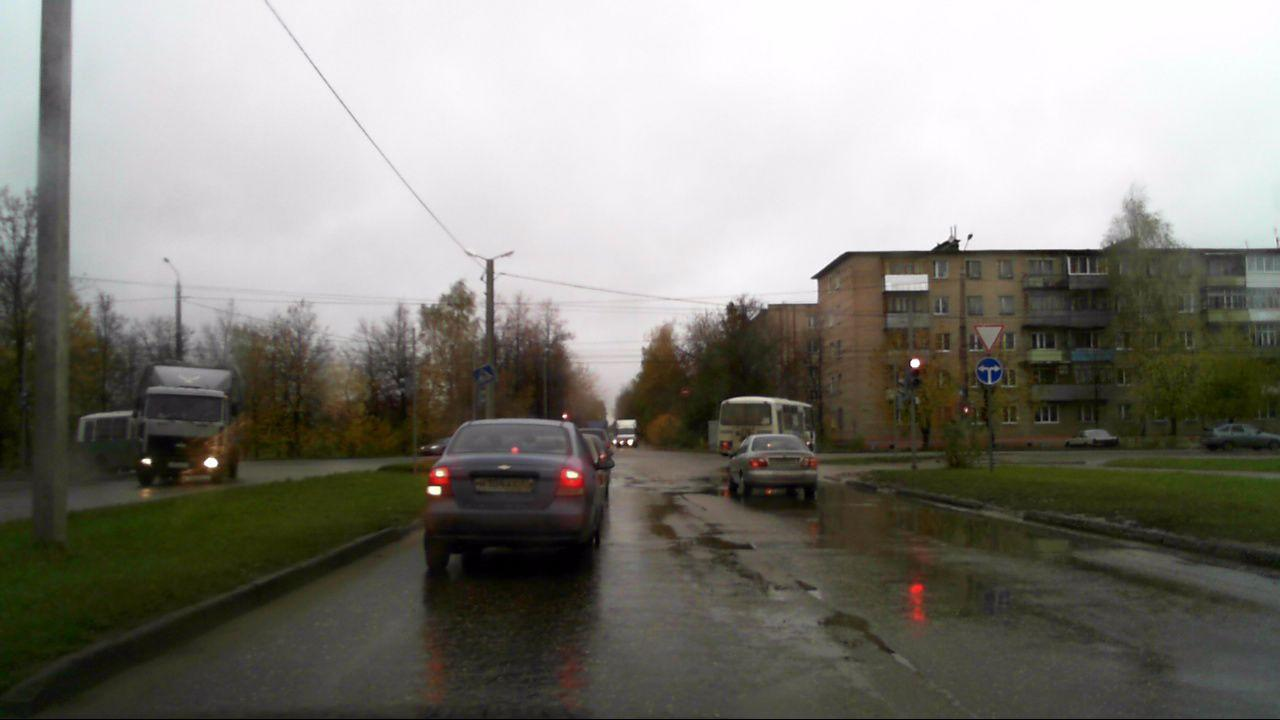2_4: (973, 323, 1003, 353)
4_1_6: (974, 356, 1003, 385)
5_19_2: (470, 362, 497, 387)
